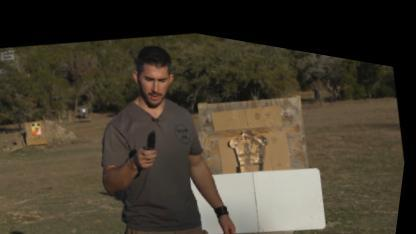knife: (134, 118, 168, 164)
